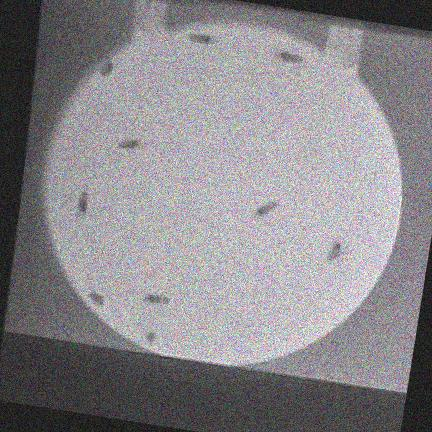fly: (255, 201, 276, 217), (117, 139, 146, 150), (277, 52, 303, 64), (188, 34, 215, 45), (327, 242, 341, 262), (76, 192, 87, 217), (87, 289, 103, 306), (145, 294, 169, 305), (99, 61, 113, 76), (146, 332, 155, 343)
